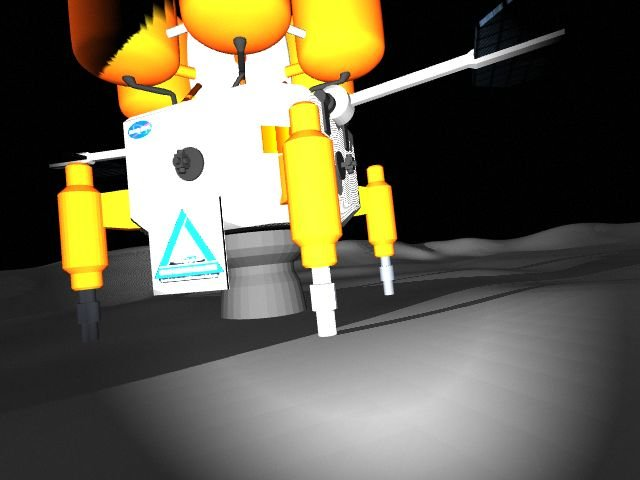basemarker: (152, 208, 224, 284)
